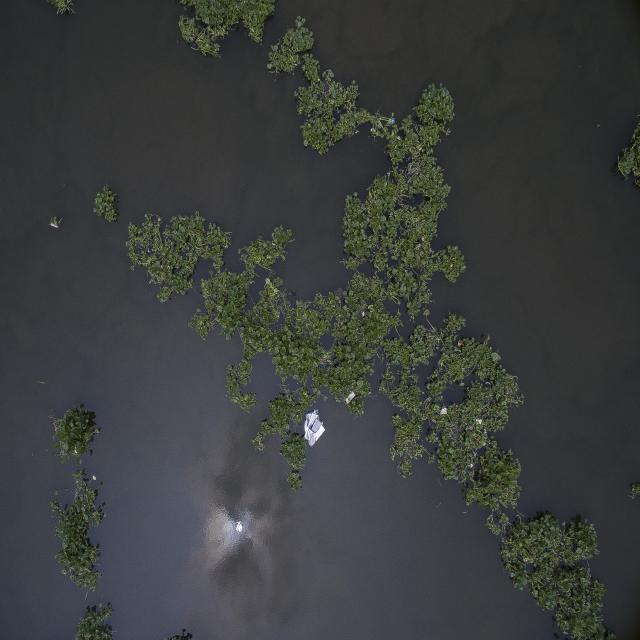debris: (302, 410, 324, 444), (344, 387, 356, 405), (440, 404, 448, 418), (359, 310, 367, 319), (73, 445, 80, 455), (475, 416, 482, 426), (469, 462, 475, 471), (91, 474, 97, 482)
plastic: (47, 220, 62, 229), (594, 121, 604, 130), (390, 114, 398, 125), (172, 37, 180, 45)
